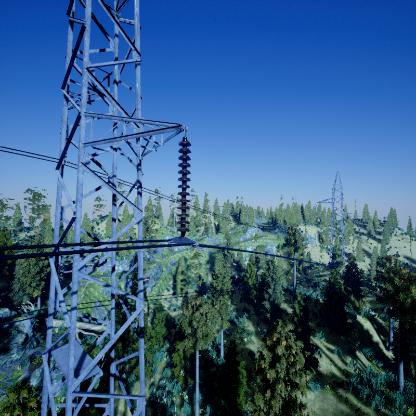insulator: (175, 138, 193, 237)
